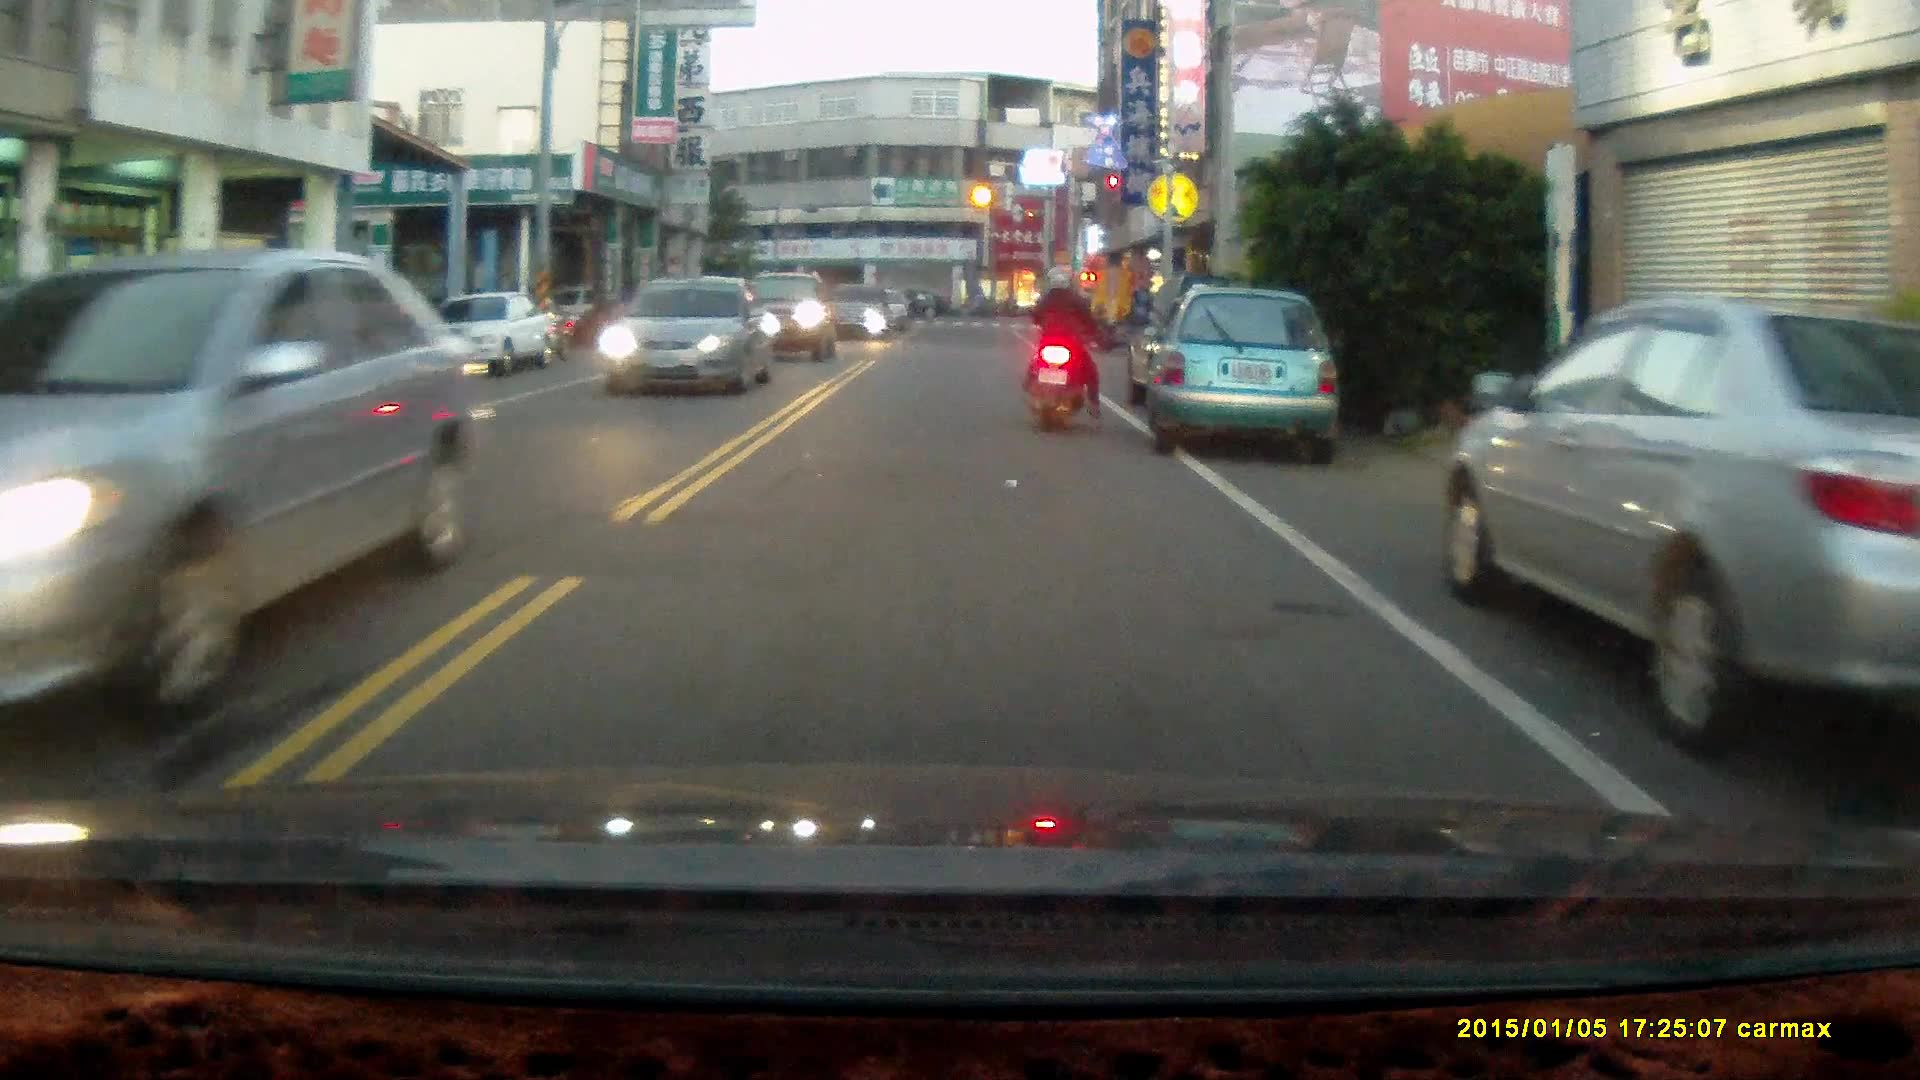rider: (1024, 266, 1105, 433)
vehicle: (1, 248, 491, 750), (1450, 297, 1920, 753), (1148, 285, 1342, 460), (605, 275, 774, 398), (400, 290, 548, 379), (715, 269, 841, 366)
